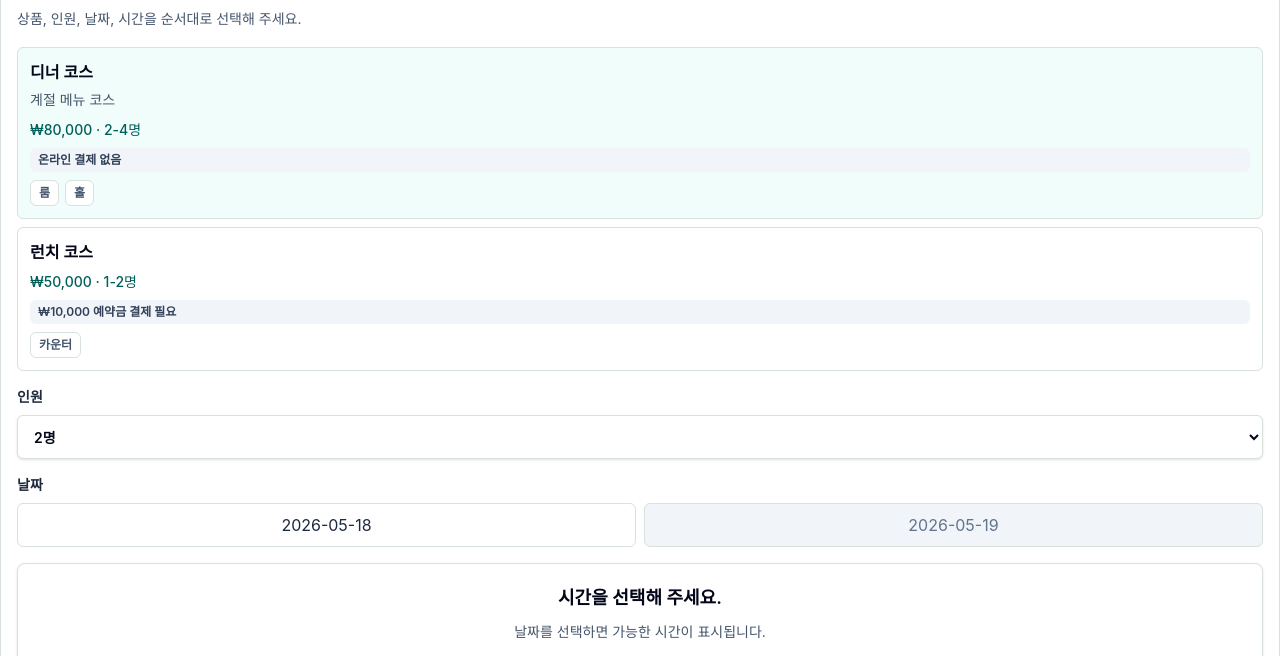
Test: ReservationSelectionPanel › creates a reservation and shows the completion result
Click the button "2026-05-18" at (326, 525), box [17, 503, 636, 547]
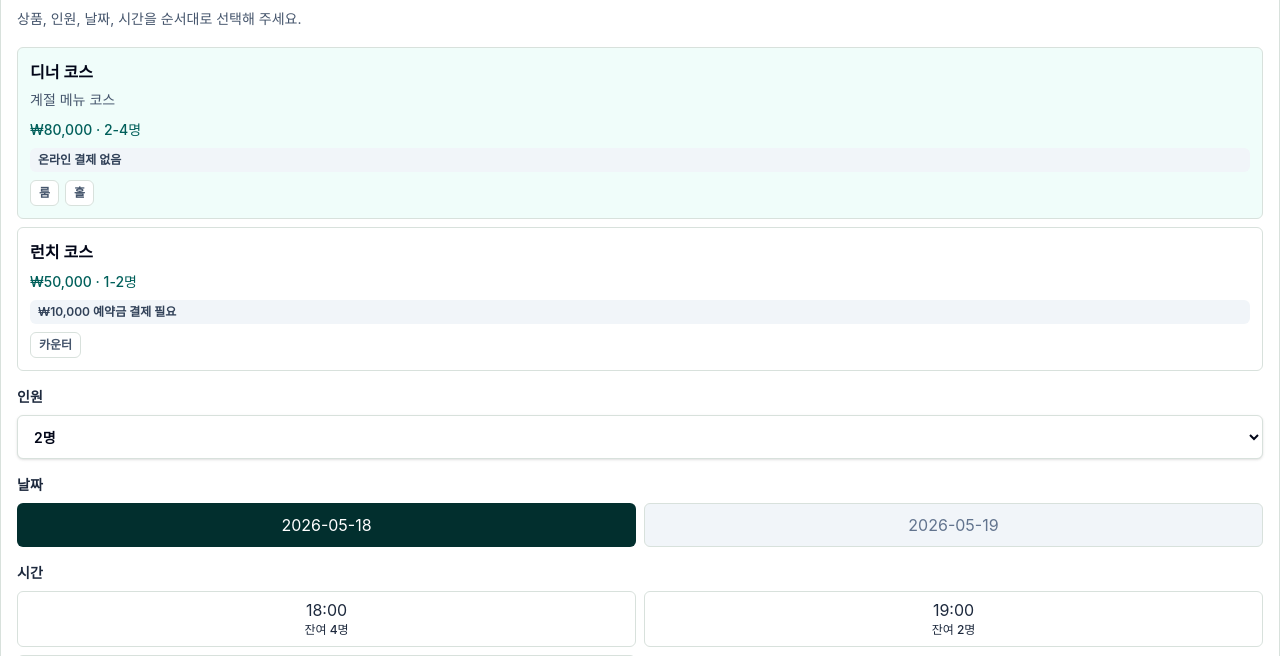
Click the button "18:00 잔여 4명" at (326, 619), box [17, 591, 636, 647]
(page scrolled)
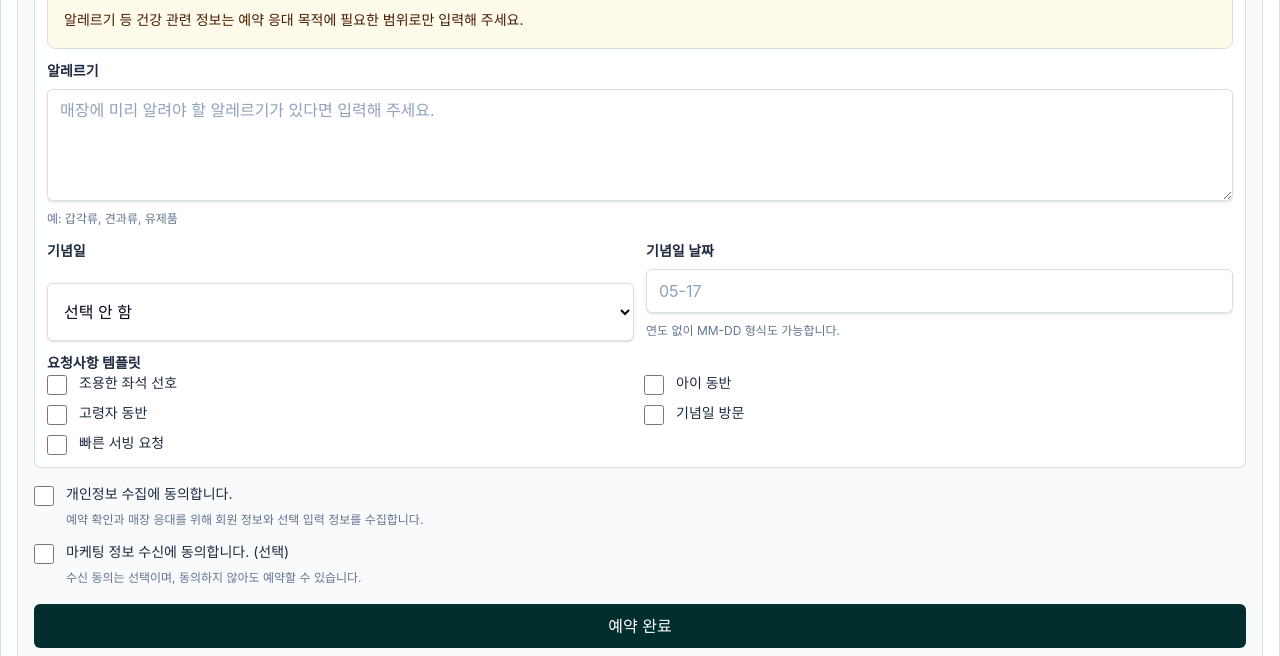
Click the checkbox labelled "개인정보 수집에 동의합니다." at (44, 496), box [34, 486, 54, 506]
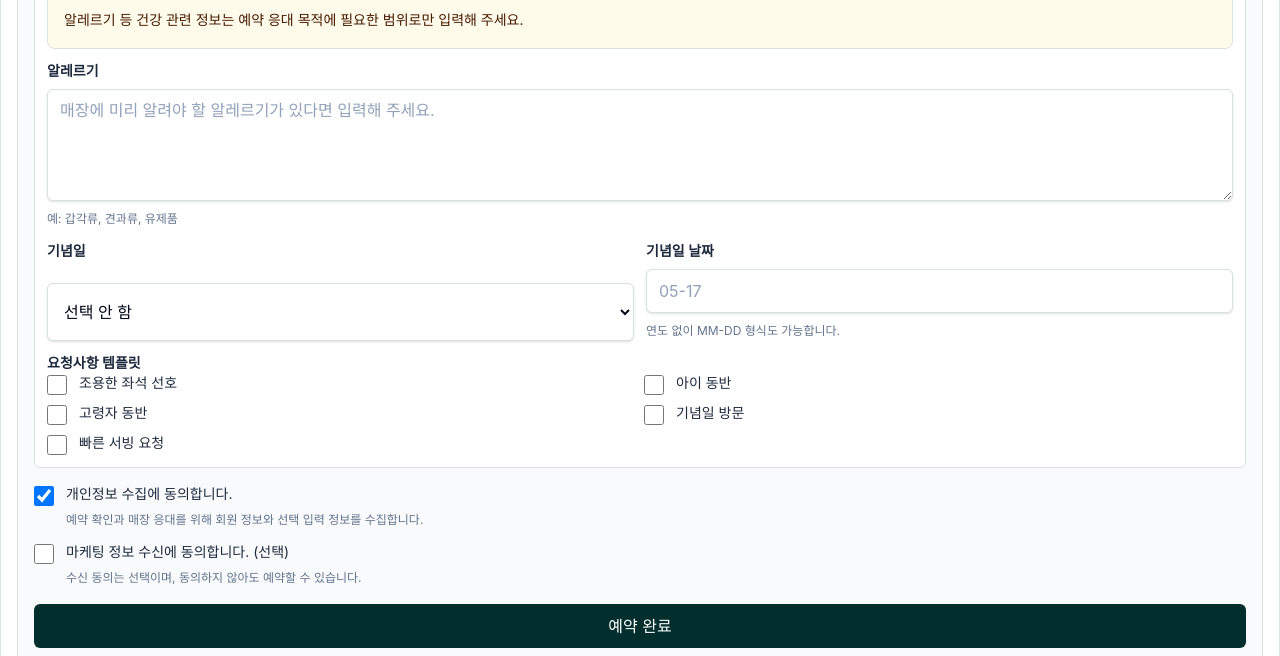
Click the button "예약 완료" at (640, 626), box [34, 604, 1246, 648]
(page scrolled)
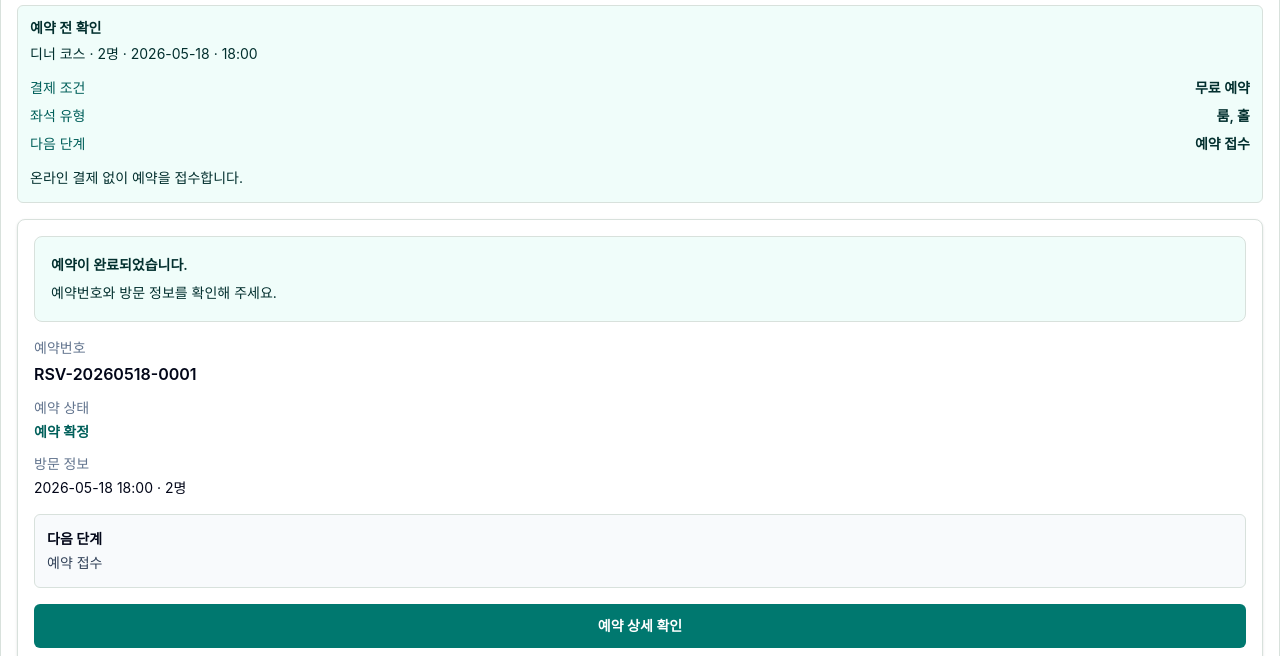
expect the text "예약이 완료되었습니다." is shown: met, box [51, 256, 188, 273]
expect the text "RSV-20260518-0001" is shown: met, box [34, 364, 197, 384]
